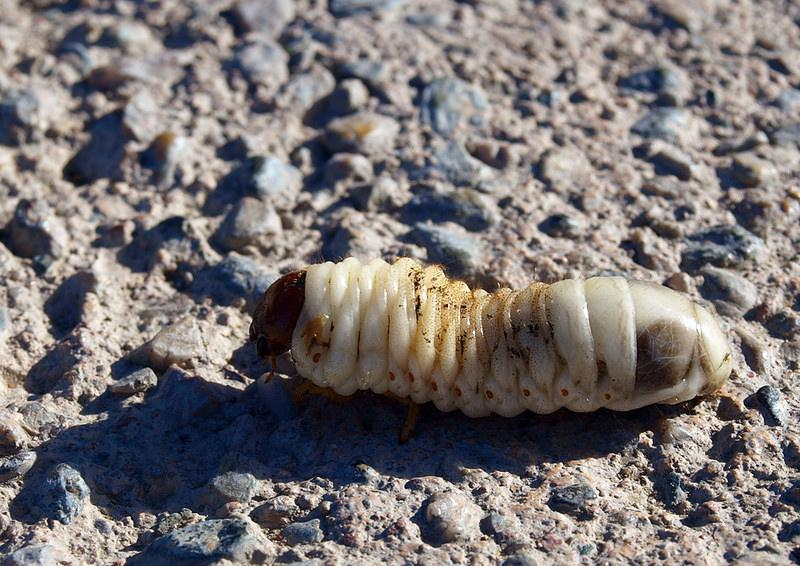grub: (248, 250, 737, 440)
